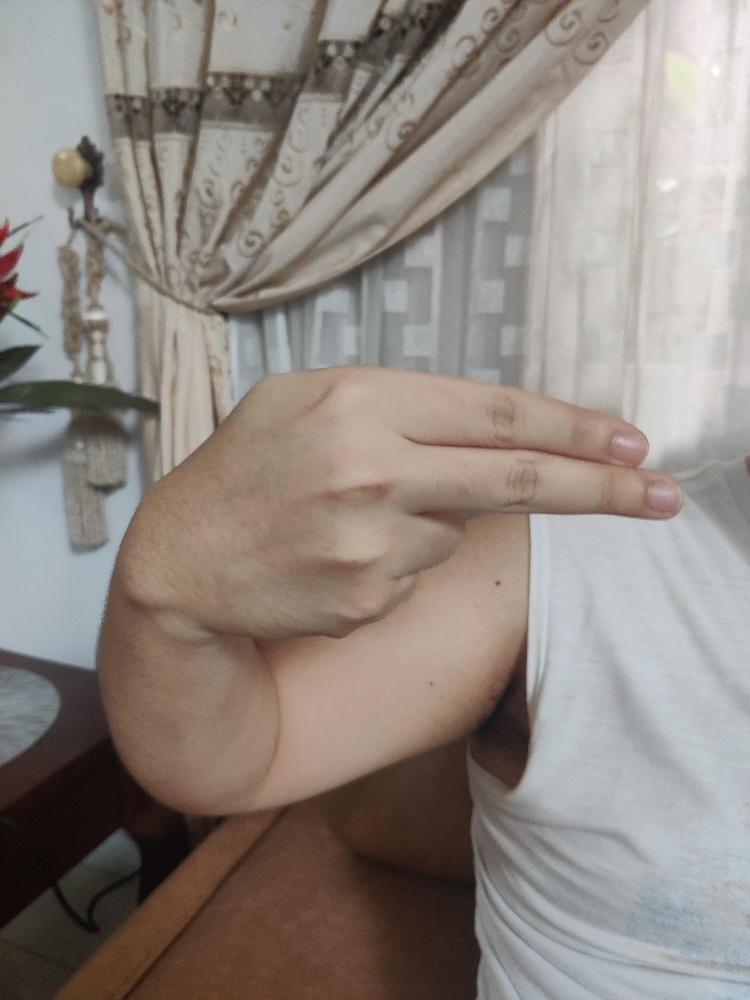h: (113, 363, 684, 640)
